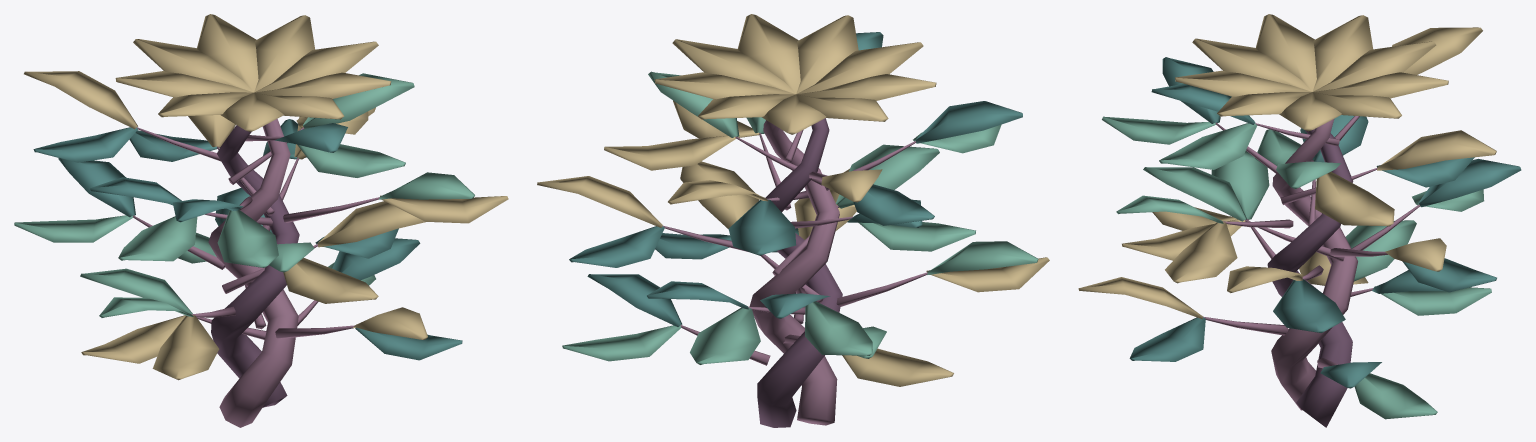
The model's file is tree_corkscrew.glb.
3 views of the same model, side by side, from view 1: azimuth 30°, elevation 25°; view 2: azimuth 150°, elevation 25°; view 3: azimuth 270°, elevation 25° (orthographic). The views are drawn at different scales.
Parts seen in each view (by area): view 1: tree_corkscrew; view 2: tree_corkscrew; view 3: tree_corkscrew.
Boxes of the visible parts, x1,y1,x2,y2 form: tree_corkscrew: [14, 14, 508, 427]; tree_corkscrew: [537, 14, 1049, 427]; tree_corkscrew: [1078, 14, 1521, 427].
Bounding box in the file's own units: 9.76 × 8.4 × 9.78.
